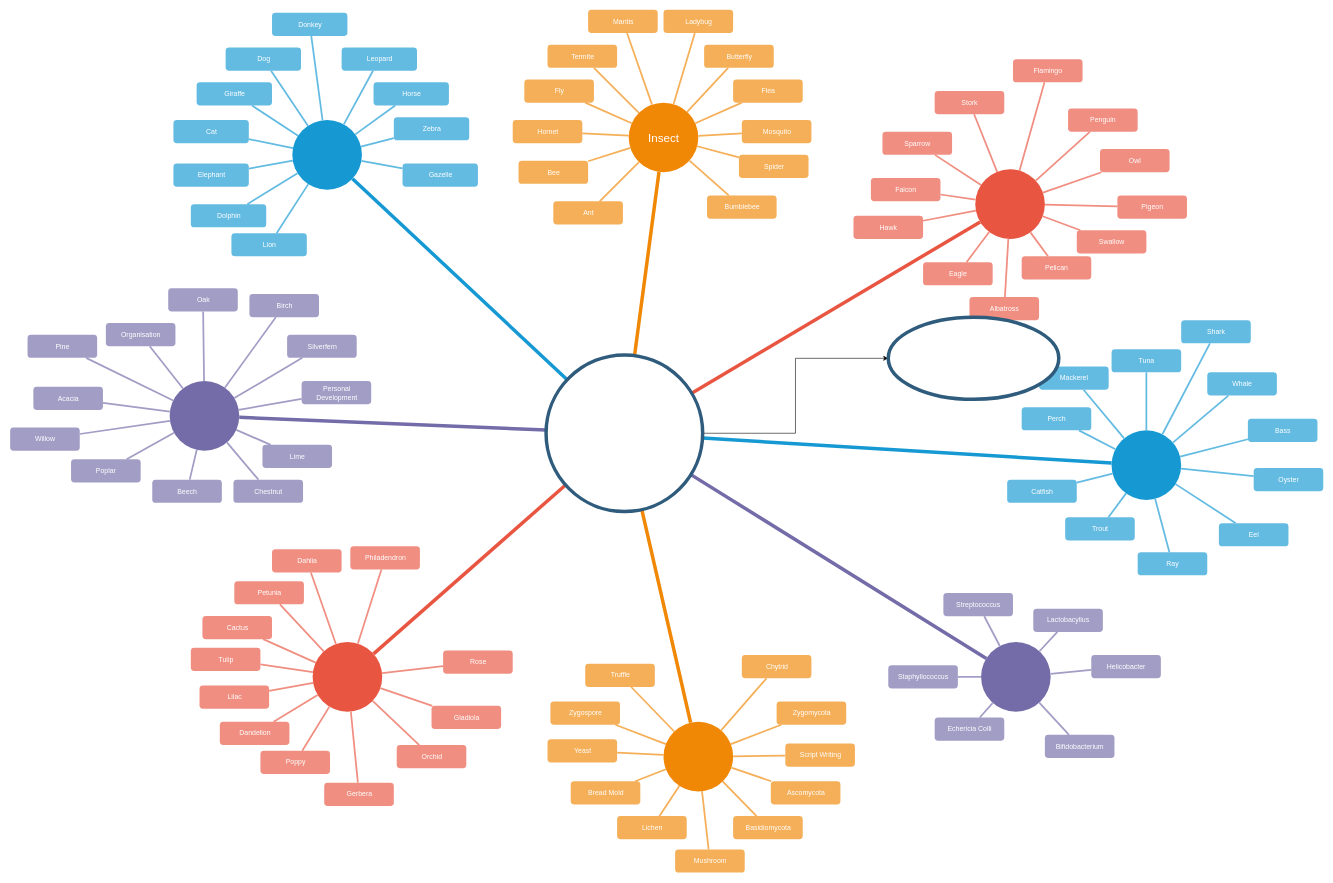
This 1333x883 diagram has some shape labels left out. The shapes that lost their labels are listed below. From the top down, each one's centre as x and y in pixels, then its label:
point 327,154: Mammal
point 1010,204: Bird
point 204,415: Tree
point 624,433: Uncertainty Quantification
point 1146,465: Fish
point 347,676: Flower
point 1015,676: Bacteria
point 698,756: Fungi
